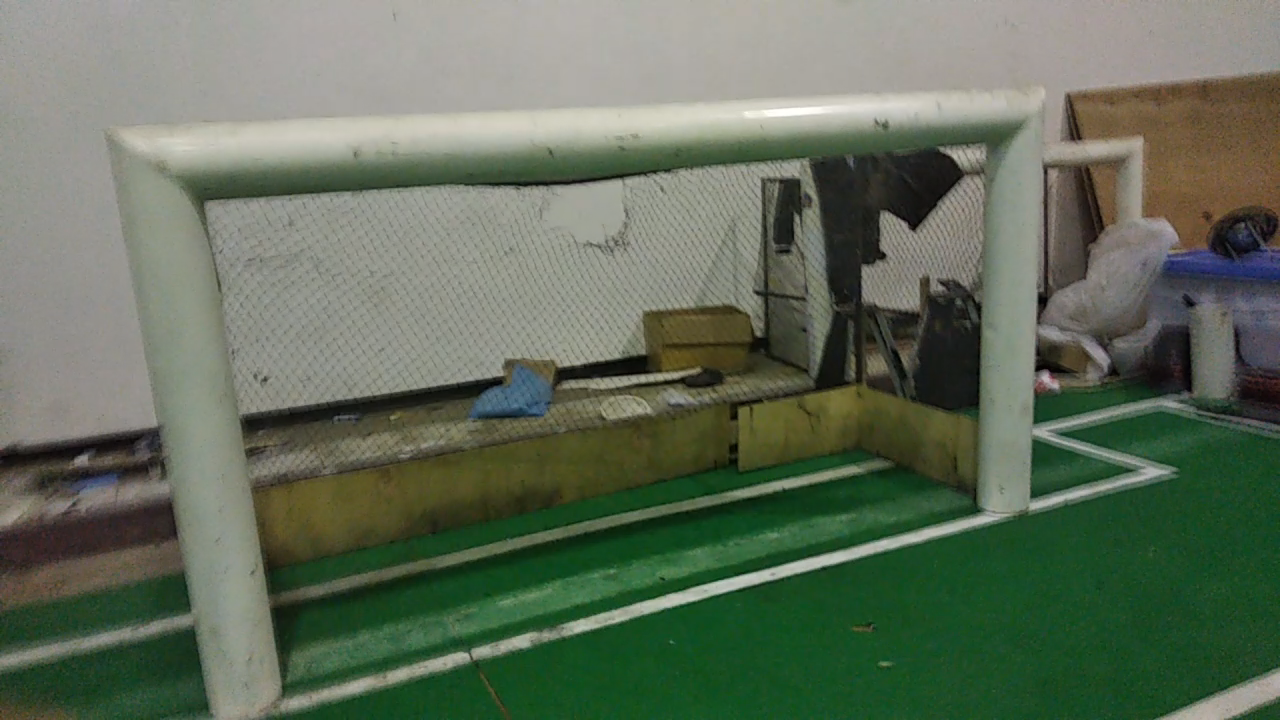gawang: (84, 72, 1050, 719)
